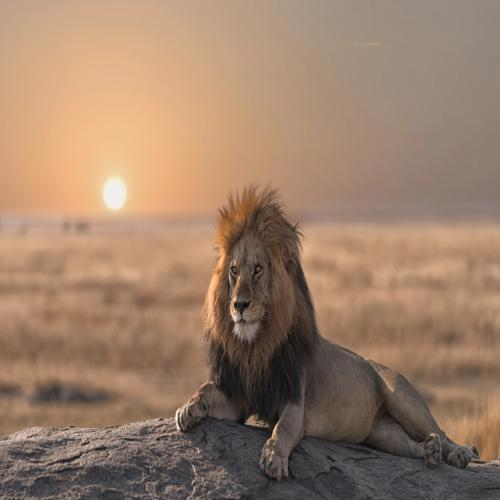lion-endangered: (177, 197, 474, 467)
